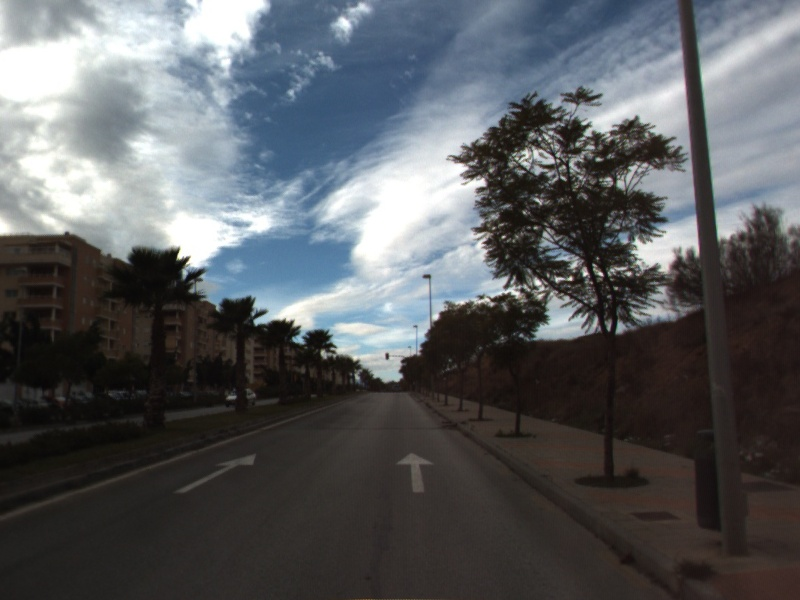STRAIGHT: (171, 451, 258, 495), (394, 451, 436, 494)
